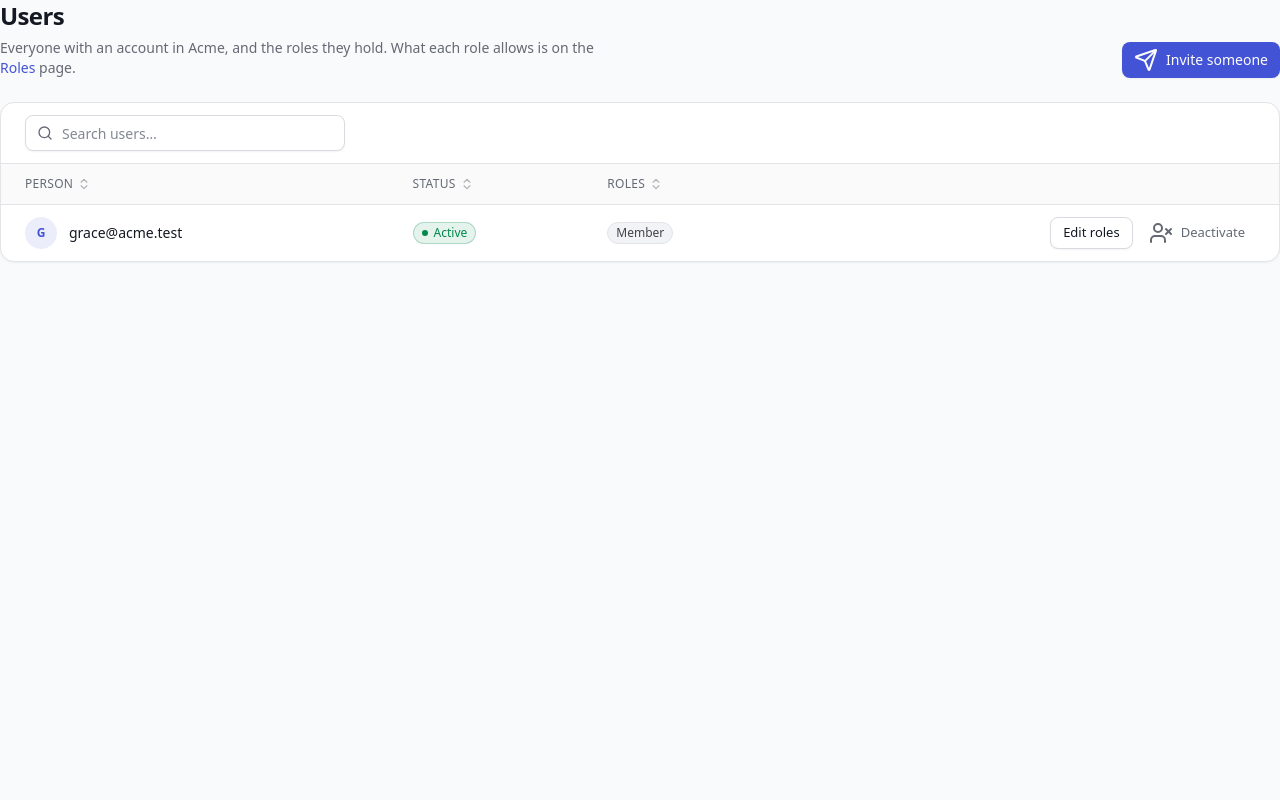
Scenario: users page › deactivates only on a second, explicit click
The width and height of the screenshot is (1280, 800).
Click the button with aria-label "Deactivate grace@acme.test". click: (1197,232)
box: [1139,216,1255,248]
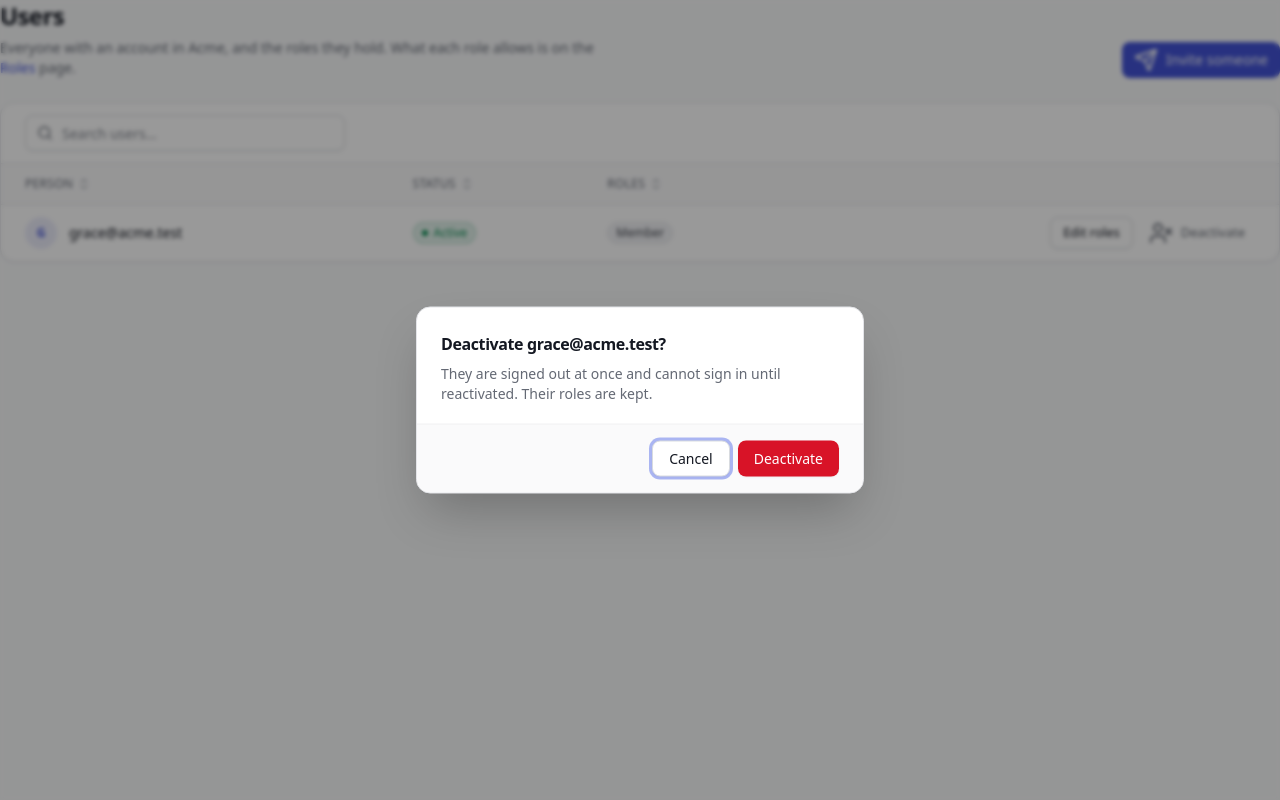
Click the button with aria-label "Confirm: deactivate grace@acme.test". click: (788,458)
box: [738,440,839,476]
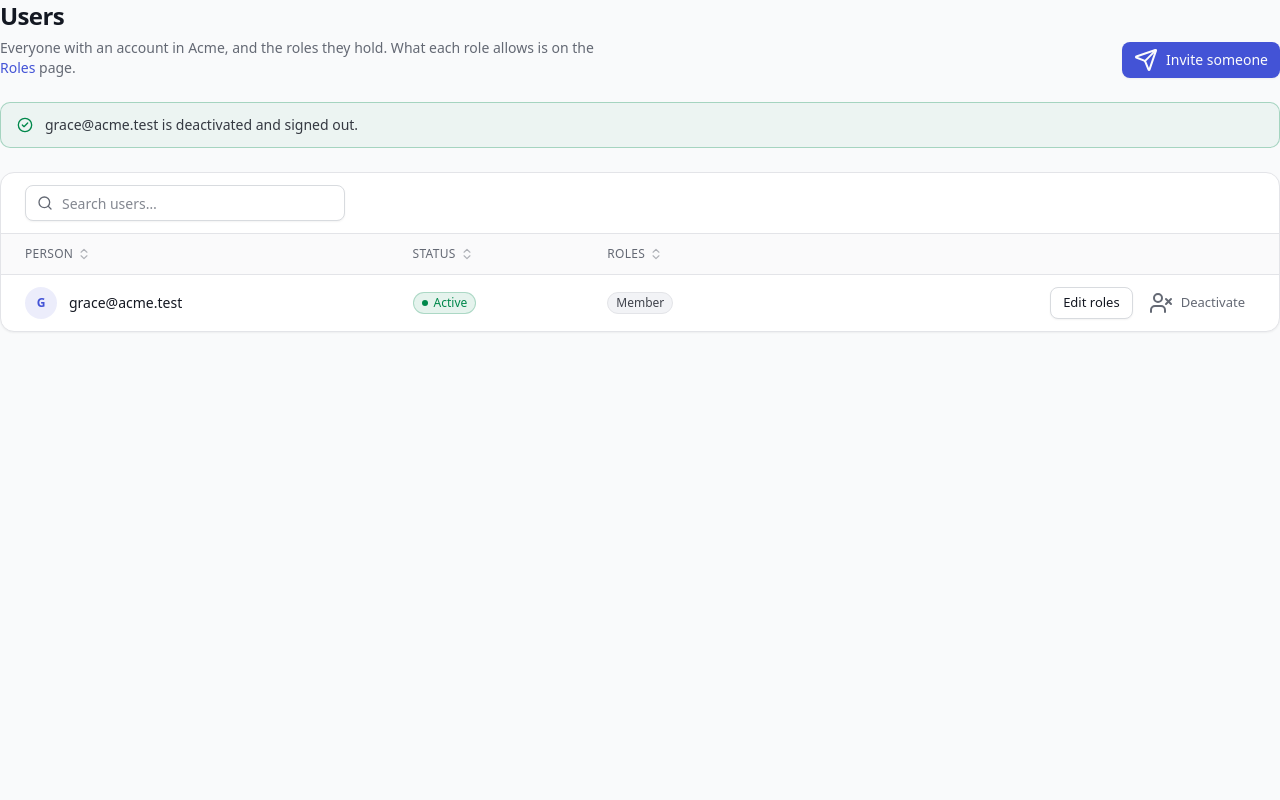
Now the text "grace@acme.test is deactivated and signed out." is shown, box [45,115,358,135]
